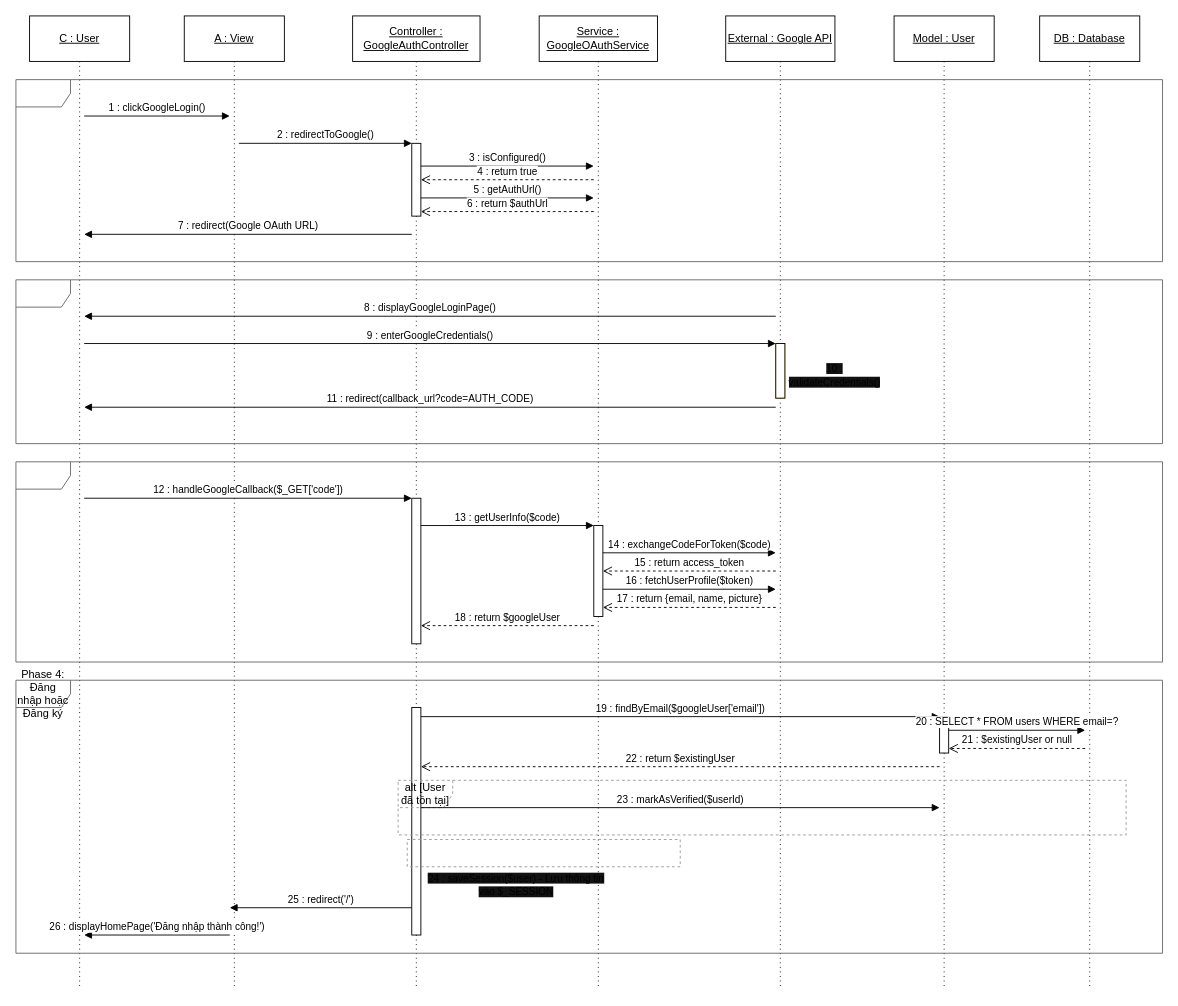
Some shapes in this 1178 by 1006 pixel diagram are drawn without their labels. Each missing label, with the box of its shape:
[else] User chưa tồn tại → registerGoogleUser($googleUser): (406, 839, 680, 867)
Phase 1: Chuyển hướng đến Google: (15, 79, 1163, 262)
Phase 2: Xác thực với Google: (15, 279, 1163, 444)
Phase 3: Xử lý callback và lấy thông tin user: (15, 461, 1163, 662)
